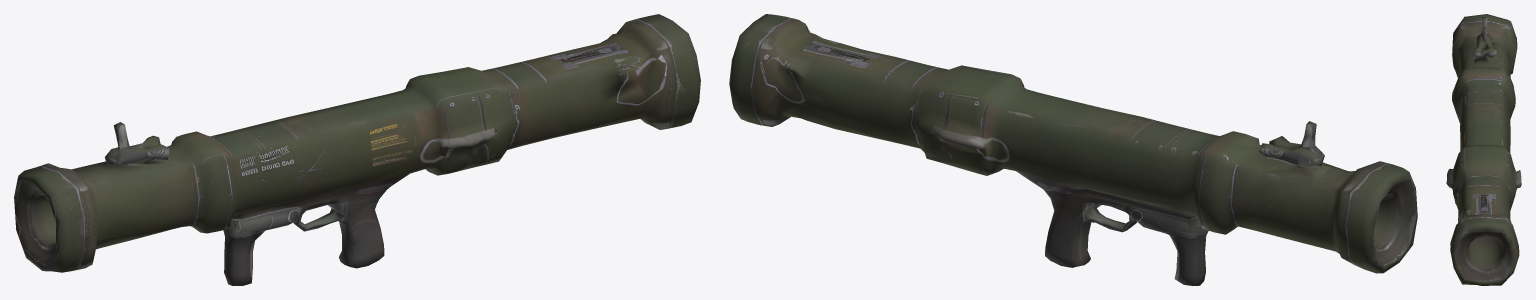
The model's file is bazooka.fbx.
The picture shows the model from 3 angles, left to right: view 1: azimuth 30°, elevation 25°; view 2: azimuth 150°, elevation 25°; view 3: azimuth 270°, elevation 25°; orthographic projection. The views are drawn at different scales.
Parts seen in each view (by area): view 1: bazooka; view 2: bazooka; view 3: bazooka.
Part boxes in pixels (x1,y1,x2,y2): bazooka: [14, 14, 700, 285]; bazooka: [729, 14, 1417, 285]; bazooka: [1446, 14, 1521, 285].
Bounding box in the file's own units: 99.97 × 29.39 × 14.91.
